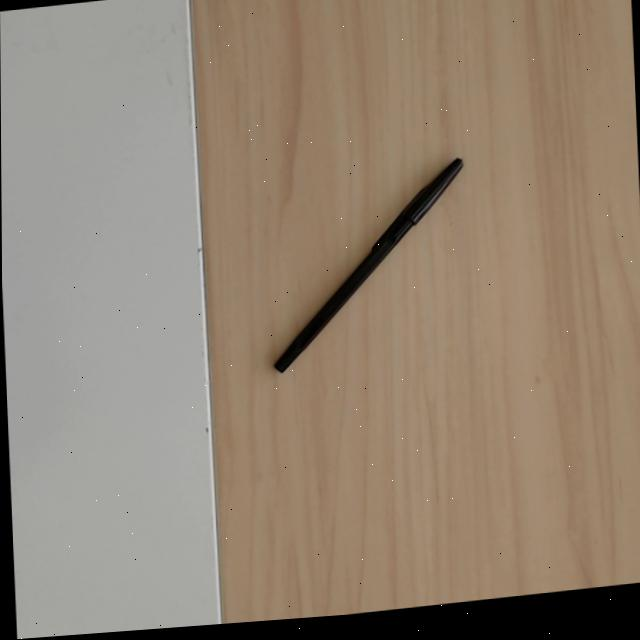Pulpen-Hitam: (266, 151, 468, 375)
